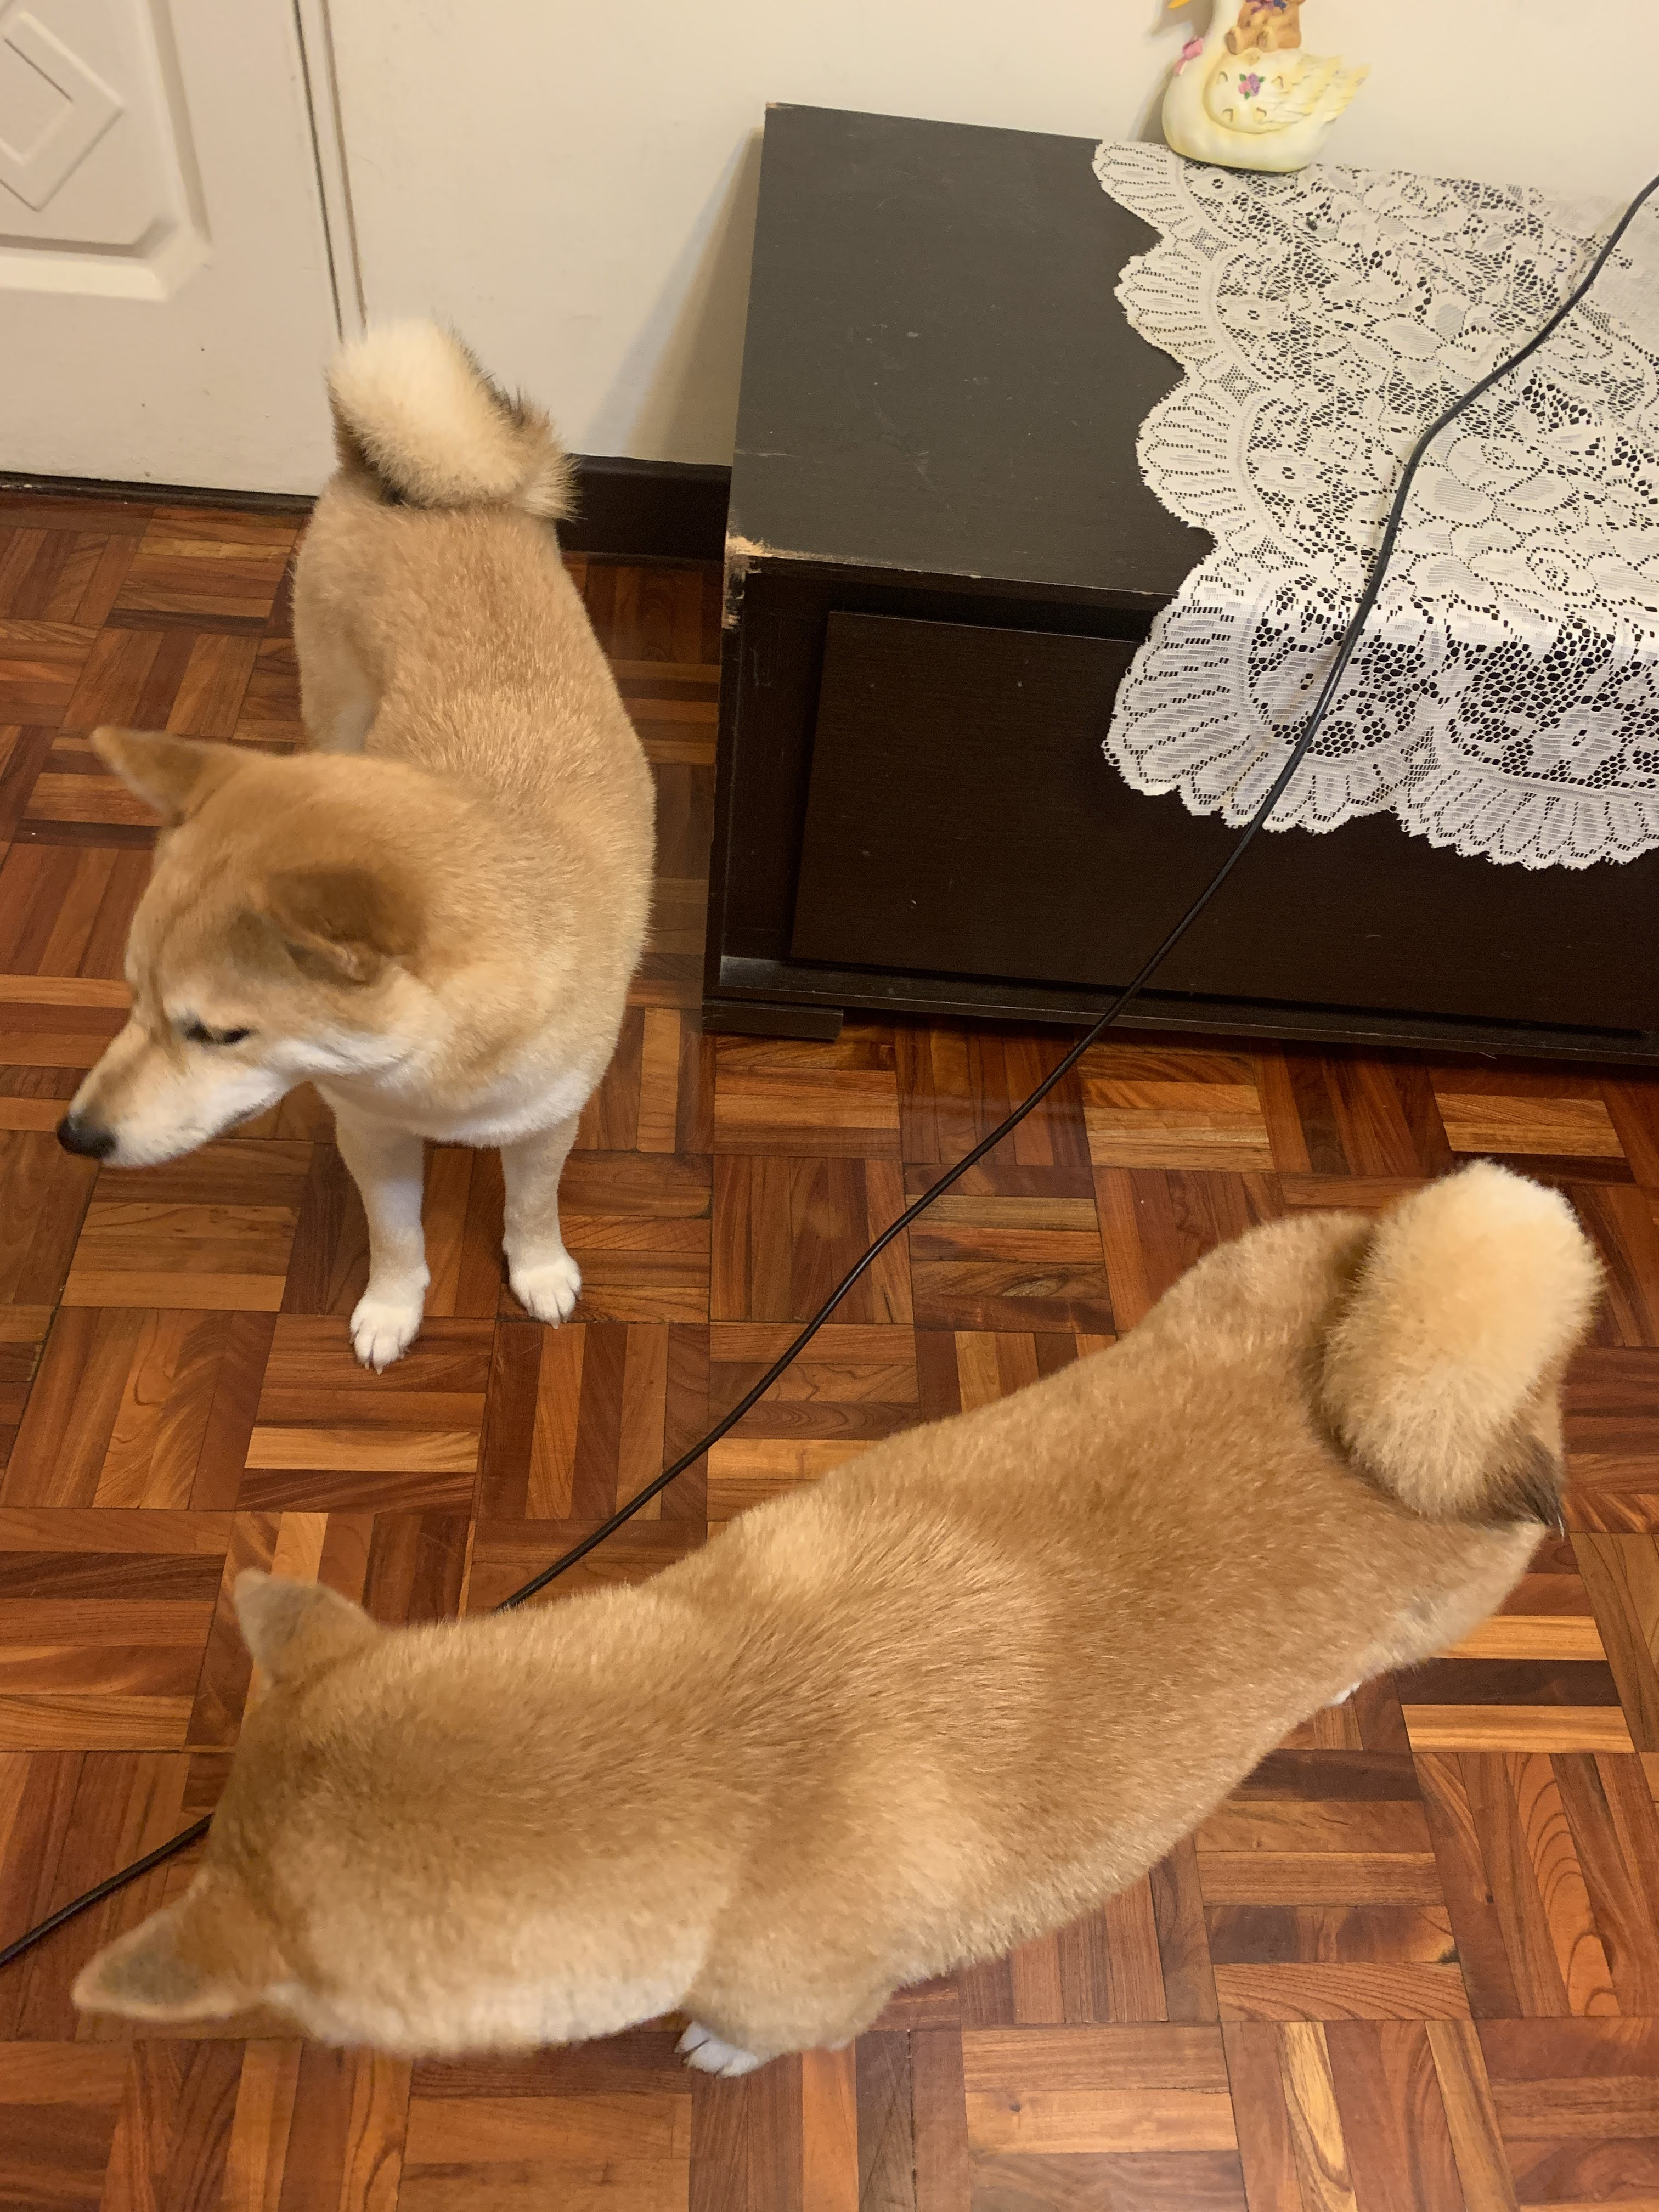Stand up: (85, 1228, 1582, 2111), (54, 327, 669, 1409)
